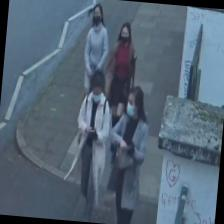person: (102, 83, 152, 224), (69, 70, 114, 223), (76, 2, 113, 145), (100, 20, 139, 154)
